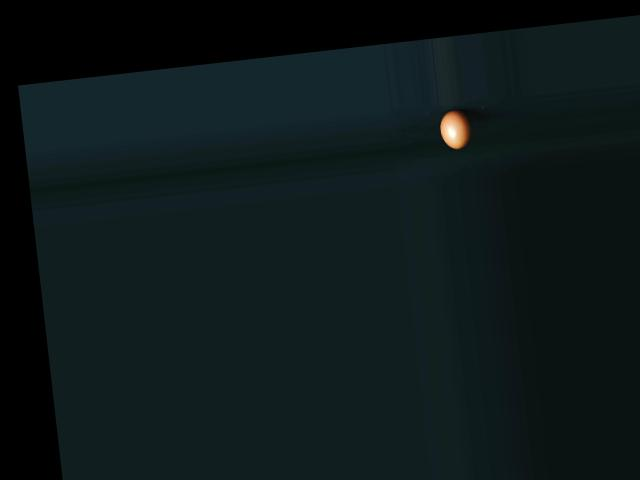egg: (439, 108, 473, 150)
